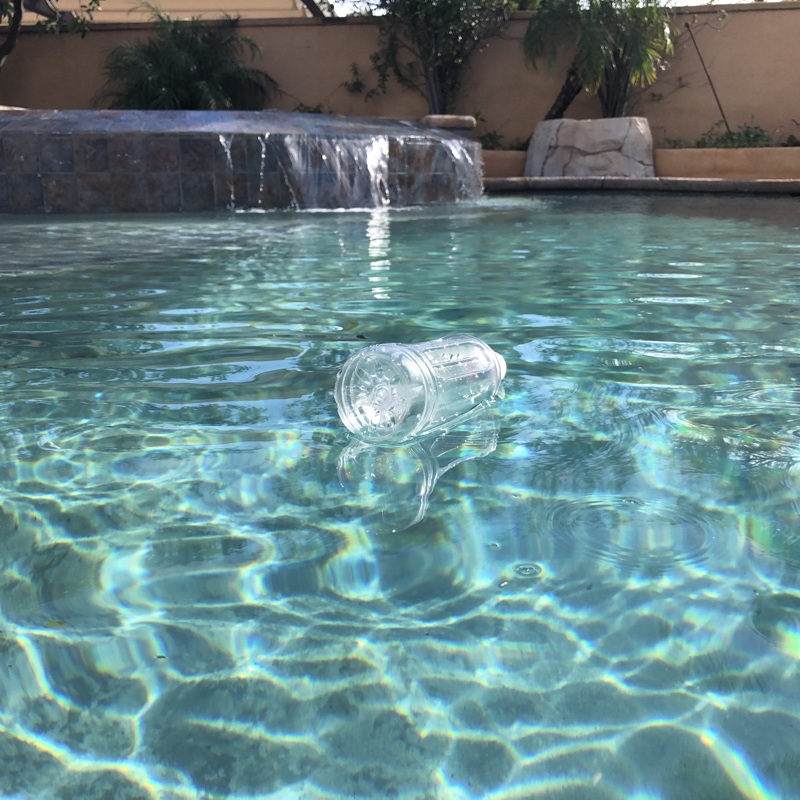Plastic Bottle: (326, 327, 516, 457)
